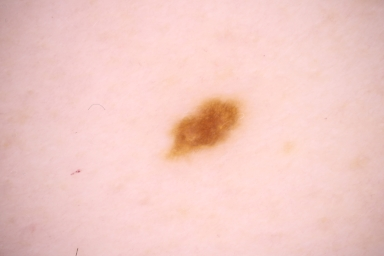melanoma: (166, 97, 240, 162)
